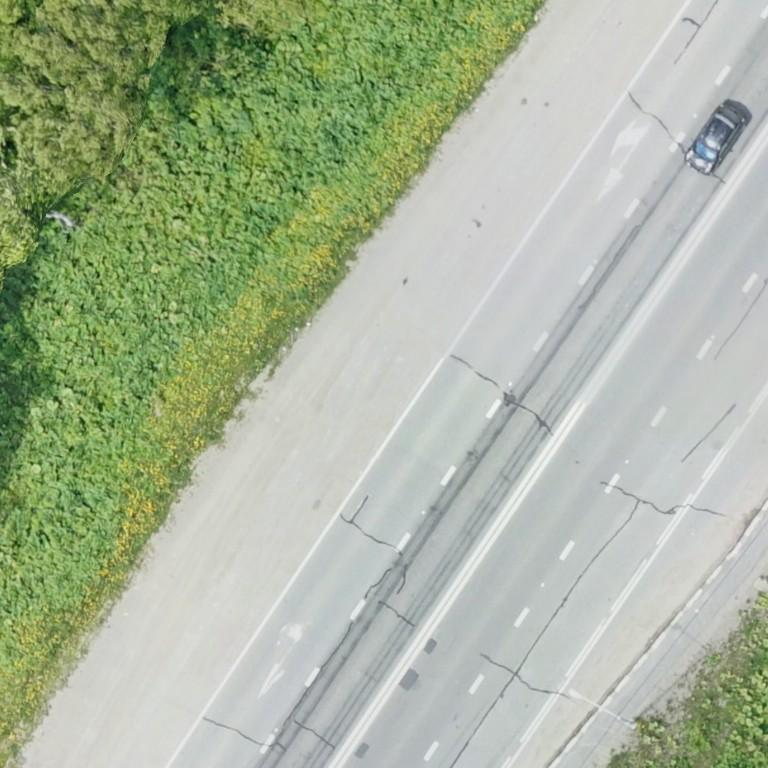hogweed: (0, 0, 495, 623)
